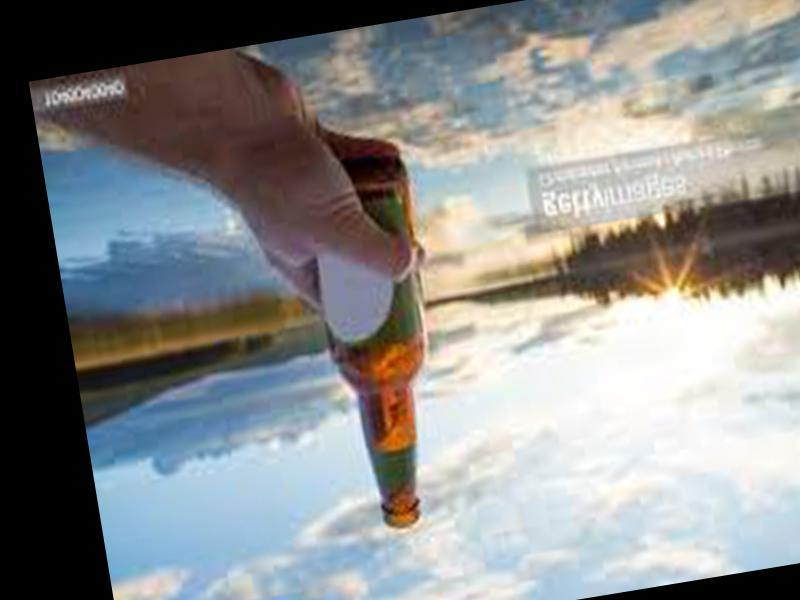Beer: (297, 154, 469, 538)
